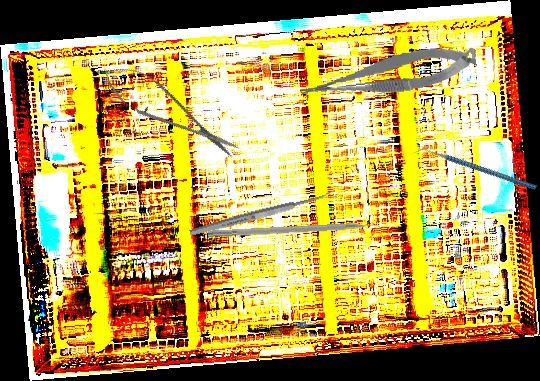Chopper: (411, 112, 538, 228), (207, 221, 390, 247)
Micro Scissor: (92, 53, 248, 170), (298, 42, 479, 104)
Surgical Spoon: (188, 189, 338, 238)
